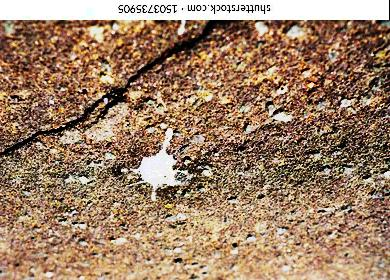Bird Poop: (122, 129, 187, 201)
